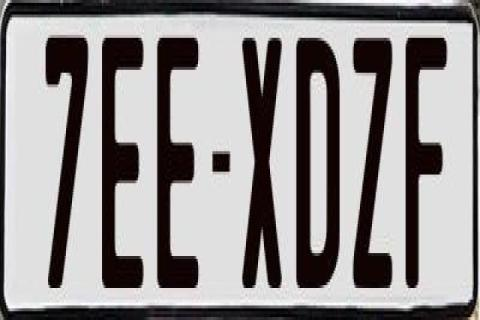0: (46, 29, 90, 285)
D: (296, 38, 342, 294)
E: (158, 29, 200, 297), (102, 35, 142, 288)
F: (402, 29, 442, 291)
X: (242, 32, 288, 288)
Z: (353, 32, 395, 282)
